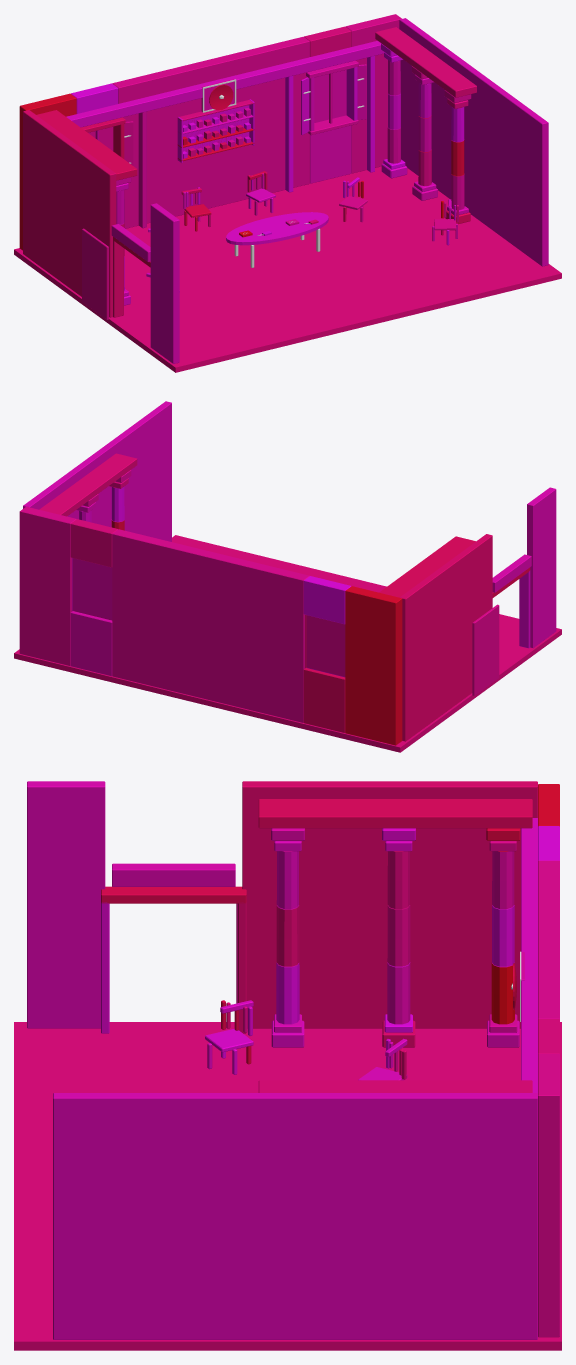
Rendered from court_chapter_04.glb.
The picture shows the model from 3 angles, top to bottom: view 1: azimuth 30°, elevation 25°; view 2: azimuth 150°, elevation 25°; view 3: azimuth 270°, elevation 25°; orthographic projection. The views are drawn at different scales.
Parts seen in each view (by area): view 1: Floor, WallBackPier_1, WallRight, WallLeftRear, WallLeftFront, CouncilFrieze, WallBackPier_end, CouncilRecords, ColonnadeCornice_1, CouncilTable, WallBackLow_1, OpenDoorLeaf (+25 smaller); view 2: WallBackPier_1, WallLeftRear, WallBackPier_0, WallRight, WallBackPier_end, Floor, WallLeftFront, WallBackLow_0, WallBackLow_1, ColonnadeCornice_1, Glazing_1, Glazing_0 (+7 smaller); view 3: WallRight, WallLeftRear, Floor, WallLeftFront, ColonnadeCornice_-1, WallBackPier_end, Column_-1_2, Column_-1_1, Column_-1_0, CouncilFrieze, ColonnadeCornice_1, WallBackPier_1 (+9 smaller).
Part boxes in pixels (x1,y1,x2,y2): Floor: [14, 166, 561, 372]; WallBackPier_1: [112, 36, 309, 228]; WallRight: [399, 18, 548, 266]; WallLeftRear: [23, 110, 116, 317]; WallLeftFront: [150, 203, 179, 363]; CouncilFrieze: [66, 40, 383, 127]; WallBackPier_end: [345, 14, 401, 173]; CouncilRecords: [177, 99, 254, 162]; ColonnadeCornice_1: [375, 27, 476, 97]; CouncilTable: [226, 212, 328, 267]; WallBackLow_1: [310, 125, 351, 183]; OpenDoorLeaf: [82, 228, 108, 319]; WallBackPier_1: [112, 529, 309, 722]; WallLeftRear: [400, 534, 492, 741]; WallBackPier_0: [345, 586, 402, 745]; WallRight: [23, 401, 171, 541]; WallBackPier_end: [19, 506, 76, 665]; Floor: [14, 535, 561, 752]; WallLeftFront: [527, 487, 556, 647]; WallBackLow_0: [303, 668, 345, 732]; WallBackLow_1: [70, 611, 112, 676]; ColonnadeCornice_1: [39, 453, 137, 516]; Glazing_1: [73, 558, 112, 619]; Glazing_0: [306, 615, 345, 676]; WallRight: [53, 1093, 537, 1339]; WallLeftRear: [242, 781, 537, 1028]; Floor: [14, 1022, 561, 1350]; WallLeftFront: [27, 781, 105, 1028]; ColonnadeCornice_-1: [258, 799, 532, 828]; WallBackPier_end: [538, 1053, 559, 1337]; Column_-1_2: [271, 828, 304, 1047]; Column_-1_1: [382, 828, 415, 1047]; Column_-1_0: [486, 828, 520, 1047]; CouncilFrieze: [521, 818, 537, 1093]; ColonnadeCornice_1: [258, 1080, 532, 1092]; WallBackPier_1: [538, 860, 559, 1019].
Size of the model in its own units: 11.7 by 4.25 by 8.4.
